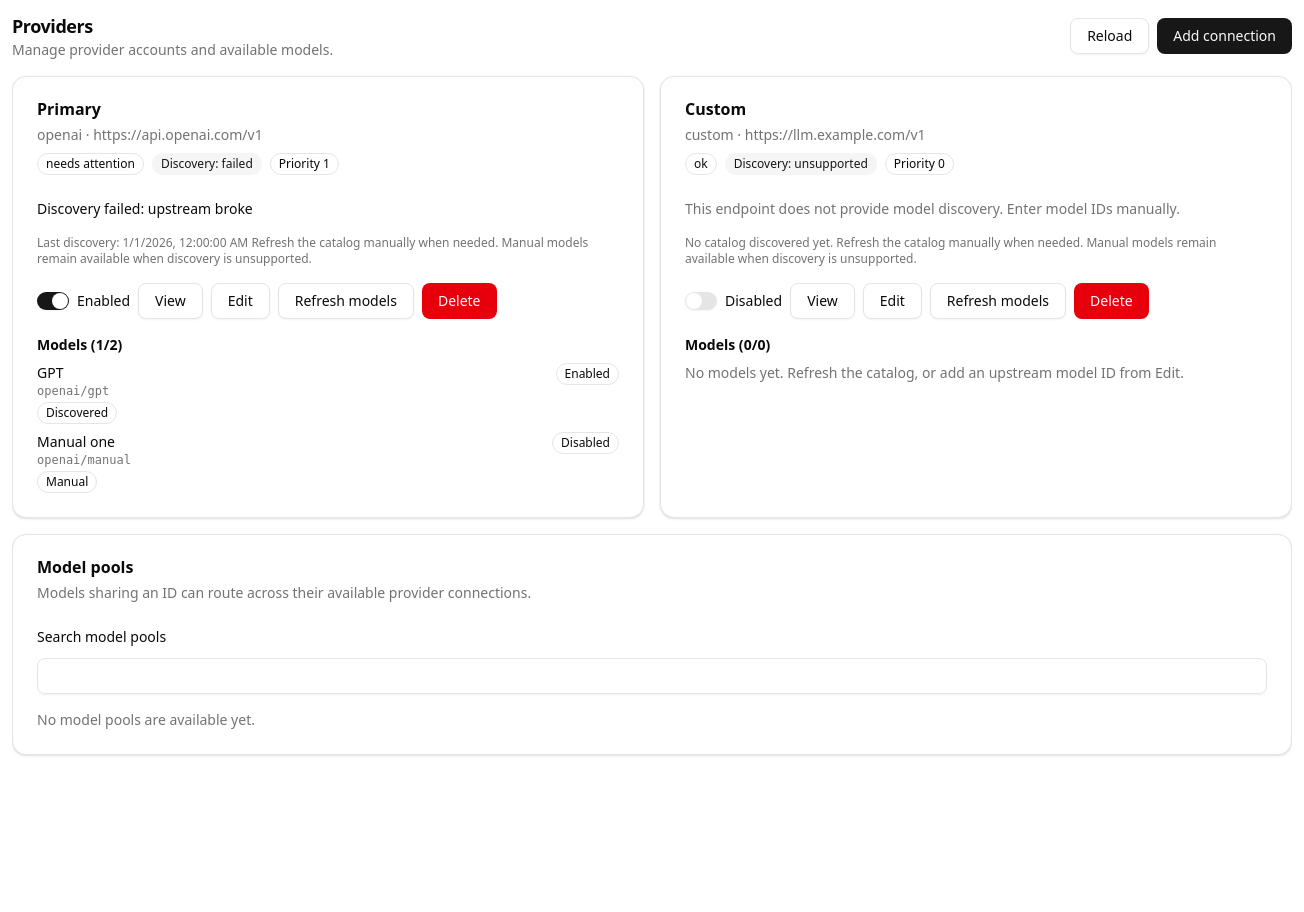
Test: ProvidersPanel page actions › schedules a refresh and shows a notice
Expected: the text "Primary" is shown, top-left (37, 98), bottom-right (101, 120)
Click the button "Refresh models" below "Last discovery: 1/1/2026, 12:00:00 AM": coordinates (346, 301) top-left (278, 283), bottom-right (414, 319)
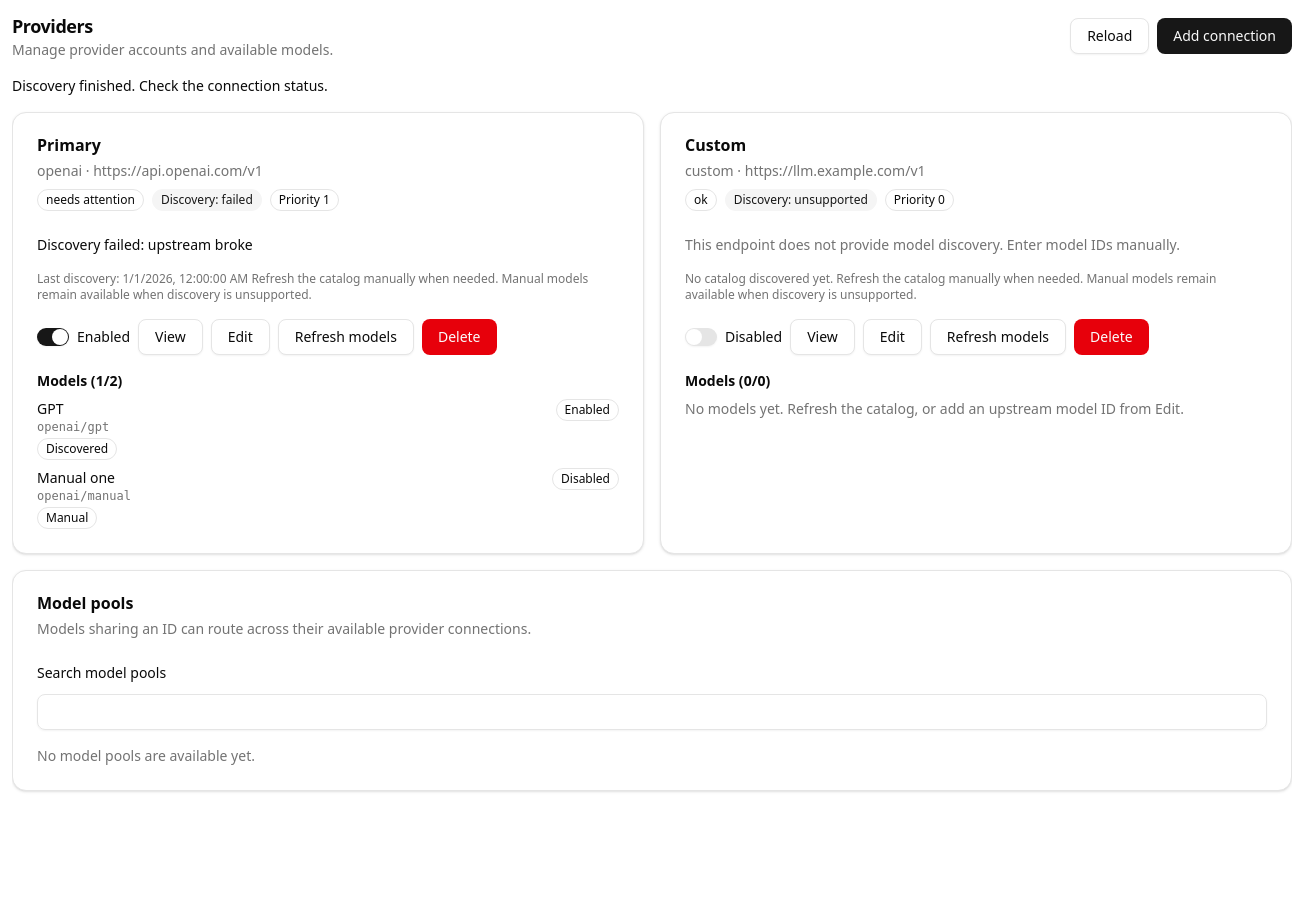
Expected: the text "Discovery finished. Check the connection status." is shown, top-left (12, 76), bottom-right (328, 95)
